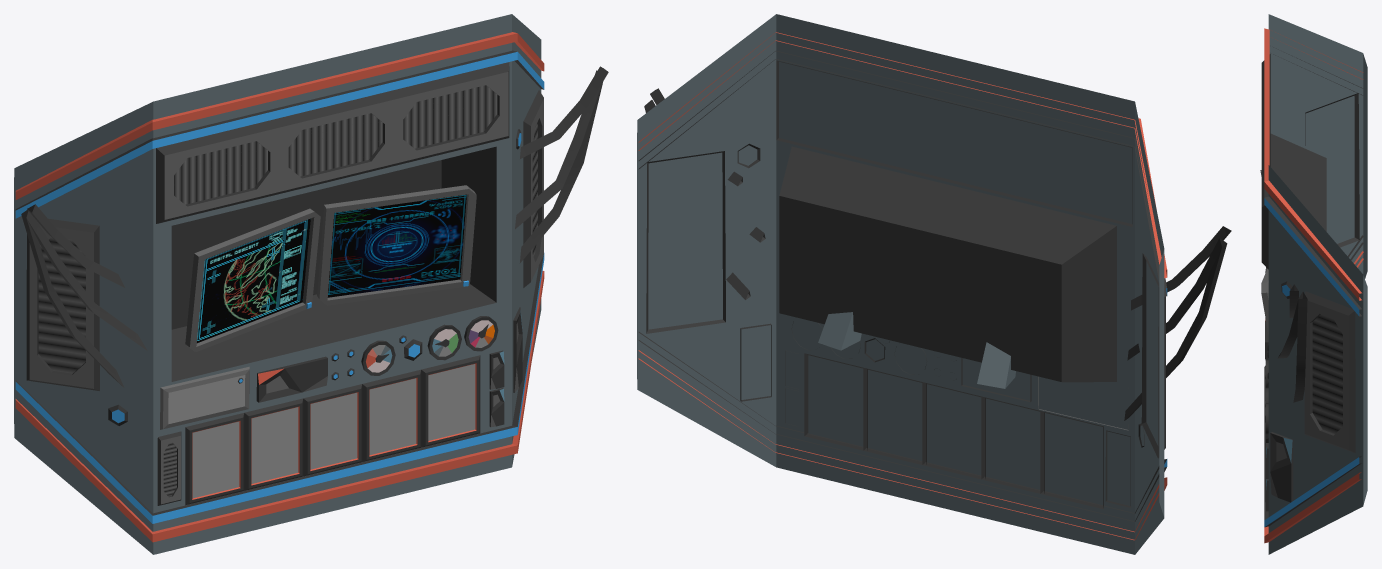
The model's file is SciFi_Panel_2.fbx.
3 renders of one model, left to right at view 1: azimuth 30°, elevation 25°; view 2: azimuth 150°, elevation 25°; view 3: azimuth 270°, elevation 25°, orthographic. The views are drawn at different scales.
Visible parts, largest first — view 1: SciFi_Panel_2; view 2: SciFi_Panel_2; view 3: SciFi_Panel_2.
Boxes of the visible parts, x1,y1,x2,y2 form: SciFi_Panel_2: [14, 14, 608, 554]; SciFi_Panel_2: [637, 14, 1231, 554]; SciFi_Panel_2: [1260, 14, 1367, 554].
Bounding box in the file's own units: 490 × 367 × 91.56.
